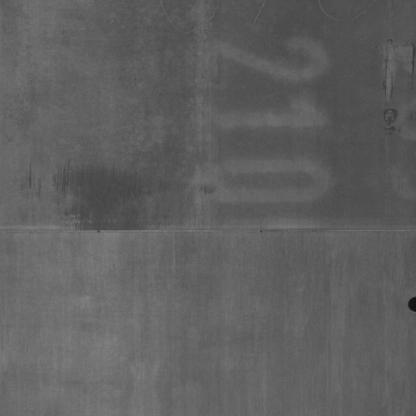oil_spot: (47, 162, 162, 220)
punching_hole: (407, 289, 416, 316)
welding_line: (0, 218, 416, 254)
